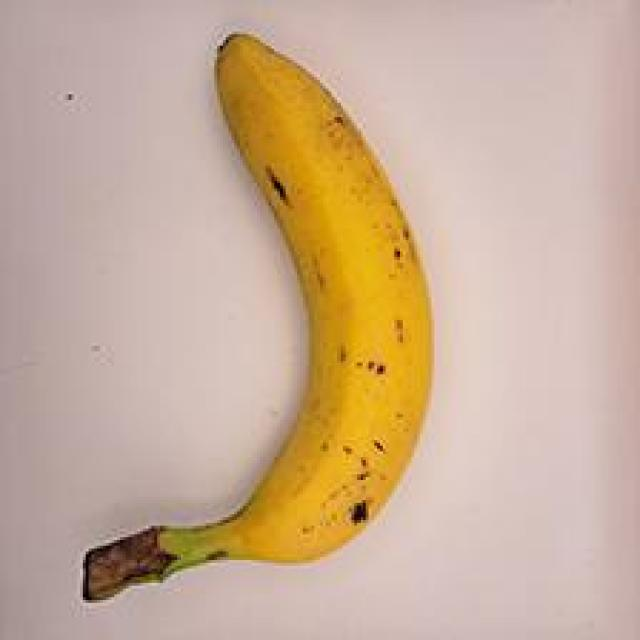ripe: (52, 19, 464, 612)
